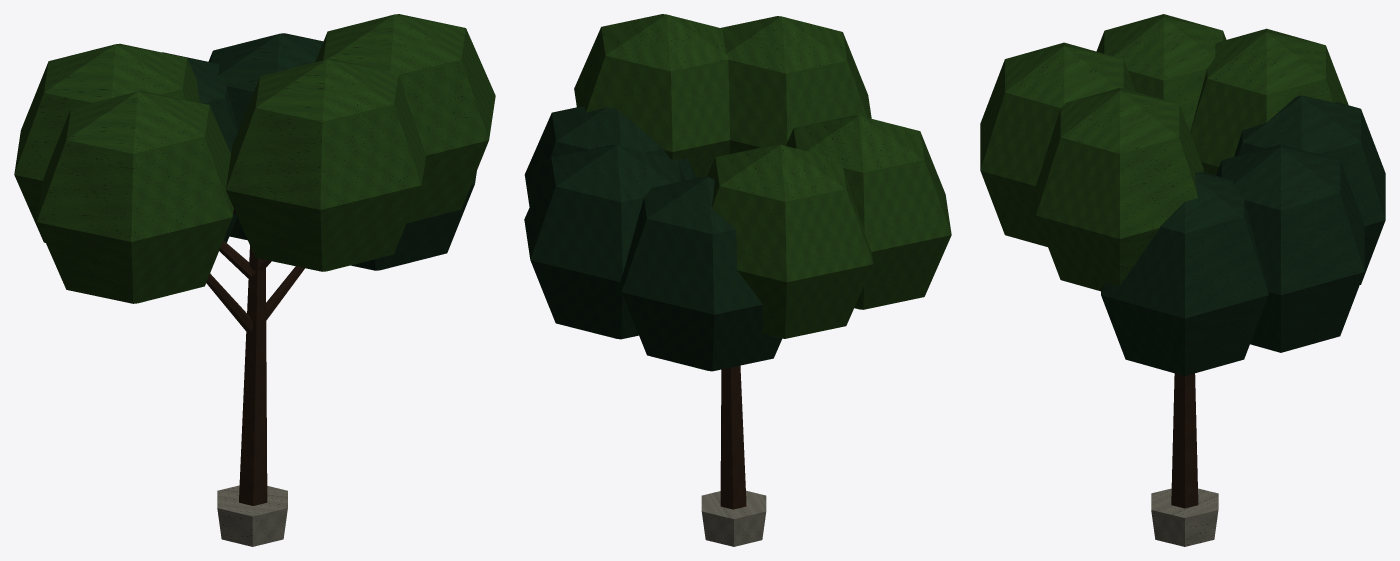
File: PROP-74F7C6896AD0_lod2.glb
The picture shows the model from 3 angles, left to right: view 1: azimuth 30°, elevation 25°; view 2: azimuth 150°, elevation 25°; view 3: azimuth 270°, elevation 25°; orthographic projection. The views are drawn at different scales.
Parts seen in each view (by area): view 1: leaf_crown.011, leaf_crown.010, trunk.017, tree_planter.001, branch.005; view 2: leaf_crown.011, leaf_crown.010, trunk.017, tree_planter.001; view 3: leaf_crown.011, leaf_crown.010, trunk.017, tree_planter.001.
Part boxes in pixels (<box>): leaf_crown.011: <box>14,14,495,303</box>; leaf_crown.010: <box>162,33,476,270</box>; trunk.017: <box>239,246,267,505</box>; tree_planter.001: <box>217,485,287,546</box>; branch.005: <box>206,209,304,332</box>; leaf_crown.011: <box>574,14,951,338</box>; leaf_crown.010: <box>524,106,781,371</box>; trunk.017: <box>720,365,746,509</box>; tree_planter.001: <box>701,490,766,546</box>; leaf_crown.011: <box>980,14,1348,291</box>; leaf_crown.010: <box>1101,95,1385,375</box>; trunk.017: <box>1171,373,1198,508</box>; tree_planter.001: <box>1151,488,1218,546</box>.
Bounding box in the file's own units: 7.35 × 7.96 × 5.94.
4 materials, 4 textured.
